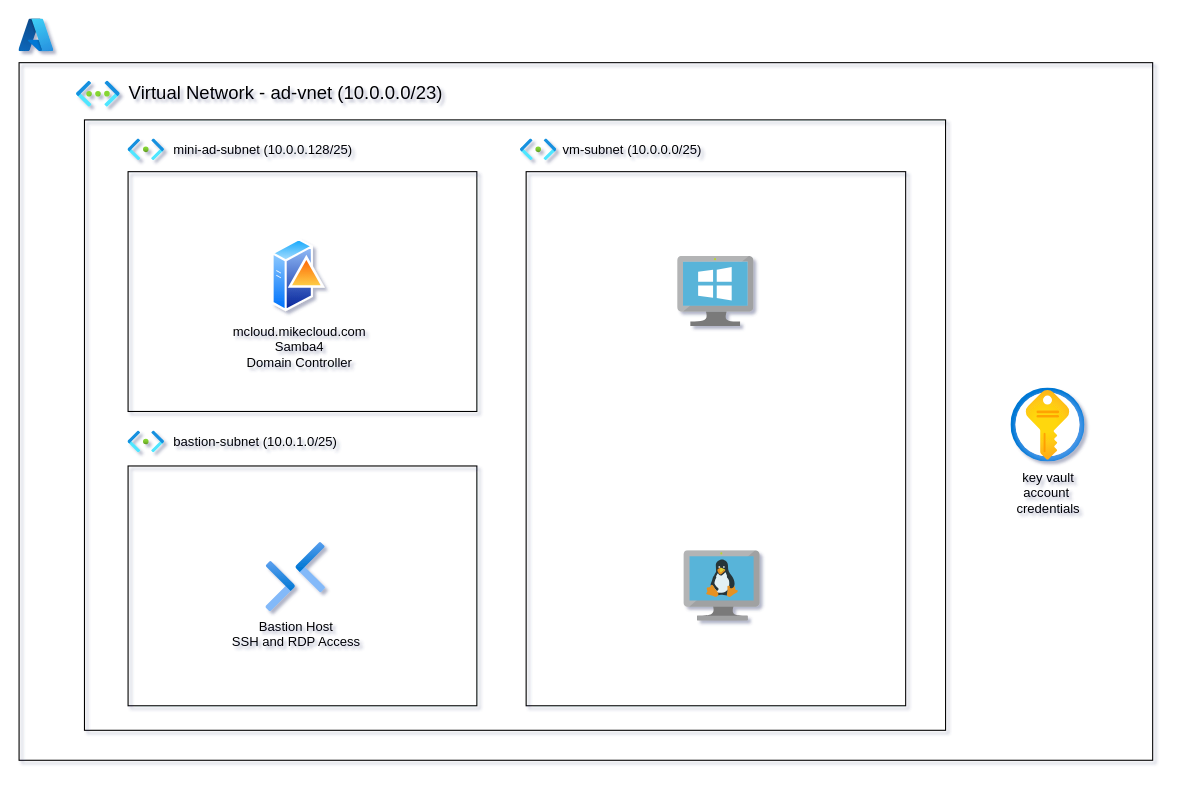
Image size: 1178x786. Some labels were removed from this diagram. Here are the shapes that lost their labels. From the top down, the box of each, then its label:
(19, 19, 53, 51): Azure Cloud - US Central Region
(677, 256, 754, 326): win-ad-instance
(683, 550, 760, 620): linux-ad-instance
